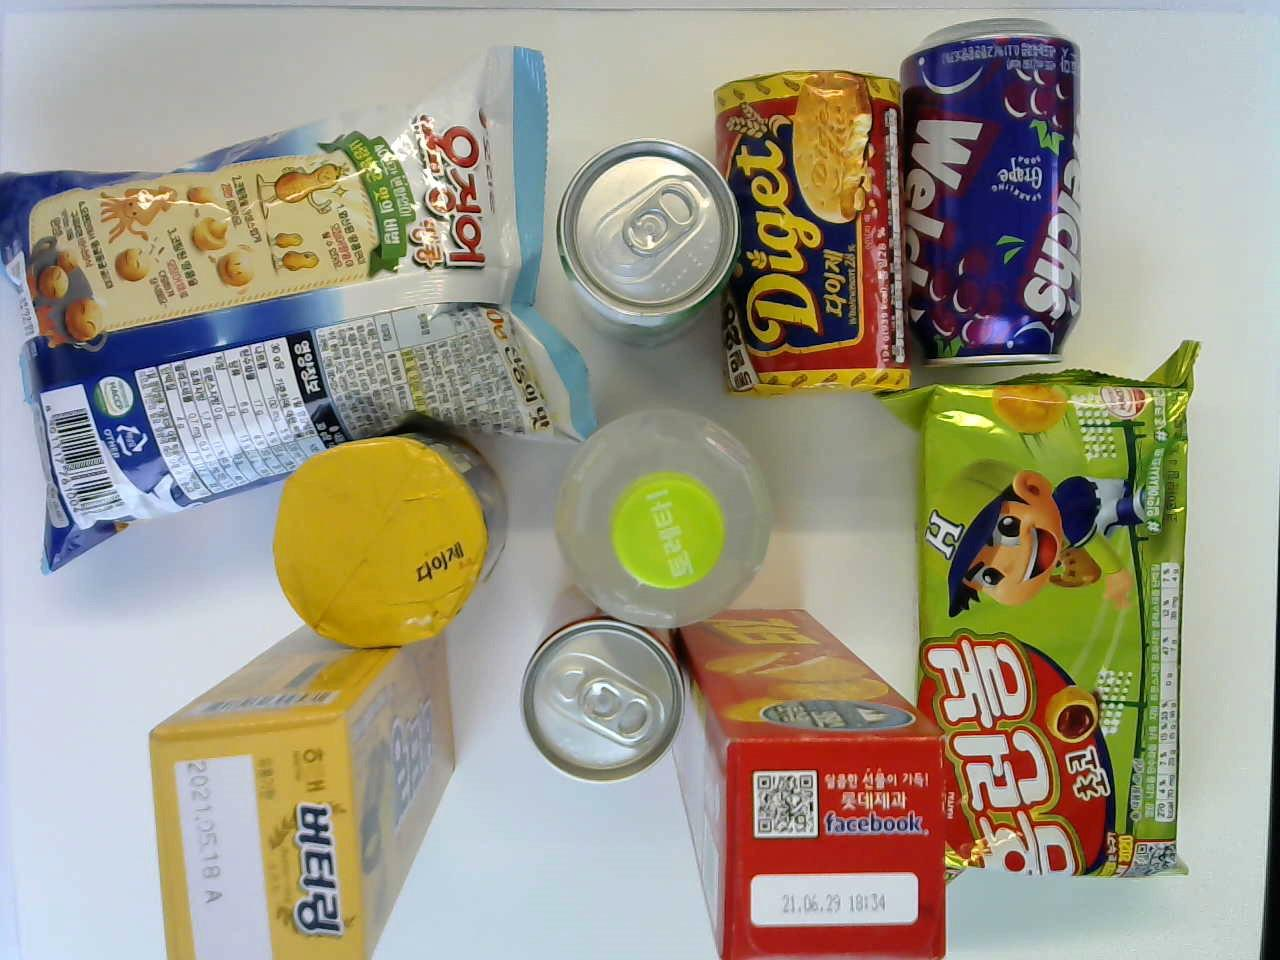buttering: (150, 627, 458, 956)
cidar: (558, 137, 740, 344)
coke: (521, 620, 686, 781)
diget_choco: (270, 431, 505, 646)
diget_ori: (715, 69, 906, 395)
homerunball: (884, 343, 1196, 880)
squid_peanut: (0, 41, 597, 571)
toreta: (550, 408, 772, 628)
welchs: (902, 21, 1082, 362)
zec: (672, 608, 944, 953)
